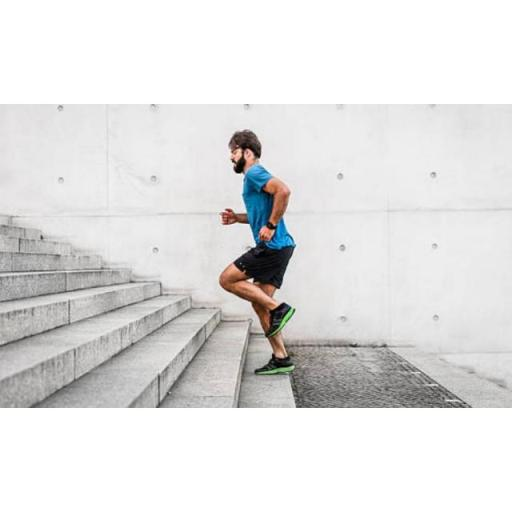Running: (220, 131, 298, 375)
